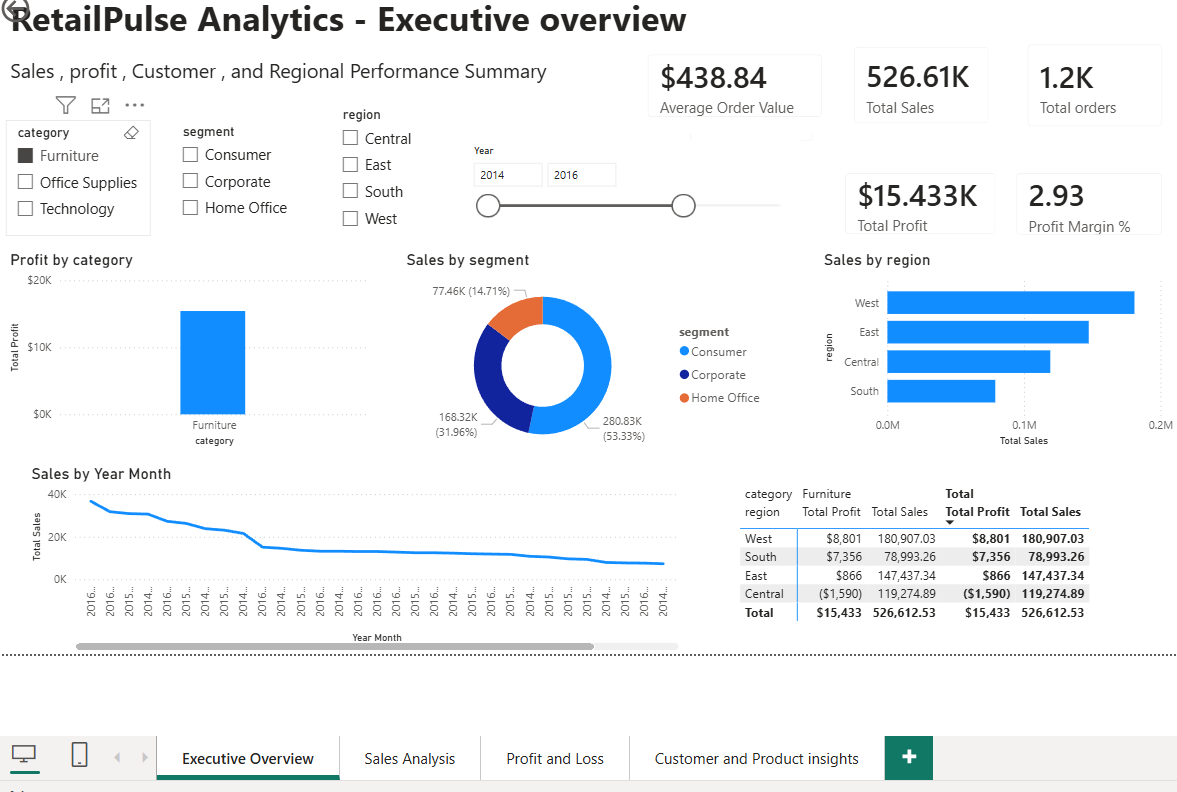

The page's visual inventory and layout, read from the dashboard file:
{"tool":"powerbi","page":{"name":"Executive Overview","canvas":[1280,720],"ordinal":0},"visuals":[{"type":"textbox","box":[9.8,0,820,73.1],"z":0},{"type":"textbox","box":[9.8,67.5,924.1,49.2],"z":1000},{"type":"cardVisual","fields":{"Data":["orders.Total Sales"]},"box":[911.8,44.7,180.2,117.9],"z":2000},{"type":"cardVisual","fields":{"Data":["orders.Total Profit"]},"box":[902.3,181.5,197.8,100.3],"z":3000},{"type":"cardVisual","fields":{"Data":["orders.Total orders"]},"box":[1100.1,42,180.2,123.3],"z":4000},{"type":"cardVisual","fields":{"Data":["orders.Total Customers"]},"box":[734.3,67.7,168,113.8],"z":5000},{"type":"cardVisual","fields":{"Data":["orders.Average Order Value"]},"box":[688.2,52.8,223.5,103],"z":6000},{"type":"cardVisual","fields":{"Data":["orders.Profit Margin %"]},"box":[1087.9,181.5,192.4,101.6],"z":7000},{"type":"slicer","fields":{"Values":["DataTable.Year"]},"box":[504,162.6,367.1,103],"z":8000},{"type":"slicer","fields":{"Values":["orders.region"]},"box":[361.7,121.9,138.2,147.7],"z":9000},{"type":"slicer","fields":{"Values":["orders.category"]},"box":[9.5,140.9,157.2,126],"z":10000},{"type":"slicer","fields":{"Values":["orders.segment"]},"box":[188.3,139.5,149,126],"z":11000},{"type":"lineChart","title":"Sales by Year Month","fields":{"Category":["DataTable.Year Month"],"Y":["orders.Total Sales"]},"box":[32.5,513.5,711.3,207.3],"z":12000},{"type":"clusteredBarChart","title":"Sales by region","fields":{"Category":["orders.region"],"Y":["orders.Total Sales"]},"box":[891.5,281.8,388.8,218.1],"z":13000},{"type":"donutChart","title":"Sales by segment","fields":{"Category":["orders.segment"],"Y":["orders.Total Sales"]},"box":[439,281.8,402.4,231.7],"z":14000},{"type":"clusteredColumnChart","title":"Profit by category","fields":{"Category":["orders.category"],"Y":["orders.Total Profit"]},"box":[9.5,281.8,398.3,218.1],"z":15000},{"type":"actionButton","box":[0,0,100,40],"z":16000},{"type":"pivotTable","fields":{"Rows":["orders.region"],"Columns":["orders.category"],"Values":["orders.Total Profit","orders.Total Sales"]},"box":[800.7,529.7,464.7,178.8],"z":17000}]}

Visuals, with their boxes on the page's 1280x720 design canvas (x1, y1, x2, y2). These are canvas units, not pixel positions in the 1177x792 screenshot, which may show the page scaled, cropped or inside an application window:
textbox: 10:0:830:73
textbox: 10:68:934:117
cardVisual - orders.Total Sales: 912:45:1092:163
cardVisual - orders.Total Profit: 902:182:1100:282
cardVisual - orders.Total orders: 1100:42:1280:165
cardVisual - orders.Total Customers: 734:68:902:182
cardVisual - orders.Average Order Value: 688:53:912:156
cardVisual - orders.Profit Margin %: 1088:182:1280:283
slicer - DataTable.Year: 504:163:871:266
slicer - orders.region: 362:122:500:270
slicer - orders.category: 10:141:167:267
slicer - orders.segment: 188:140:337:266
"Sales by Year Month" lineChart: 32:514:744:721
"Sales by region" clusteredBarChart: 892:282:1280:500
"Sales by segment" donutChart: 439:282:841:514
"Profit by category" clusteredColumnChart: 10:282:408:500
actionButton: 0:0:100:40
pivotTable - orders.region x orders.category: 801:530:1265:708
